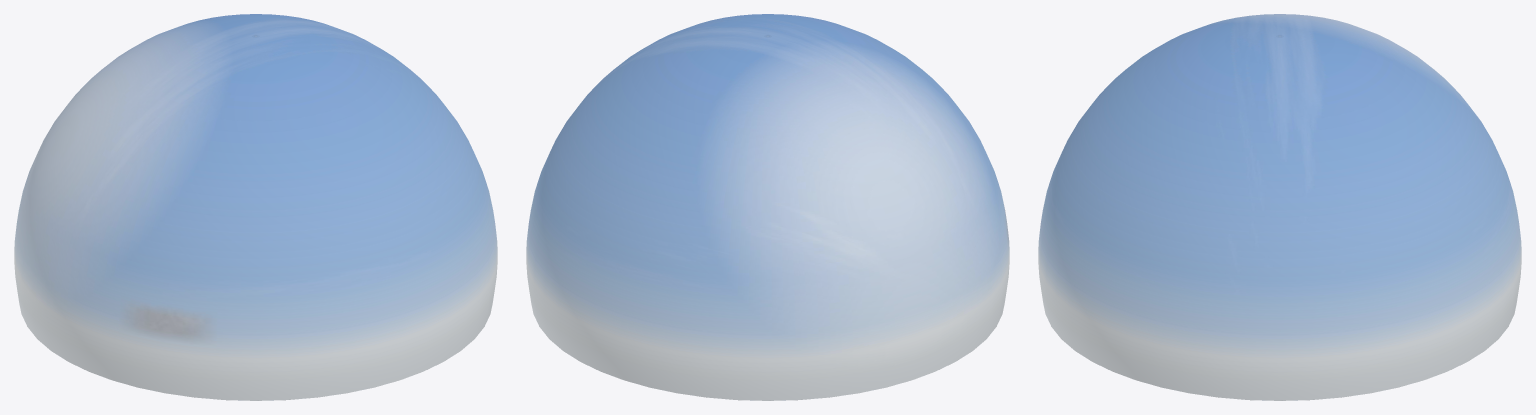
Rendered from odysseus_ship.gltf.
3 renders of one model, left to right at view 1: azimuth 30°, elevation 25°; view 2: azimuth 150°, elevation 25°; view 3: azimuth 270°, elevation 25°, orthographic.
Parts seen in each view (by area): view 1: SkyDome; view 2: SkyDome; view 3: SkyDome.
Boxes of the visible parts, x1,y1,x2,y2 form: SkyDome: (14, 14, 497, 400); SkyDome: (526, 14, 1009, 400); SkyDome: (1038, 14, 1521, 400).
Size of the model in its own units: 240 by 145 by 240.
Materials: 22 (22 with a texture image).
